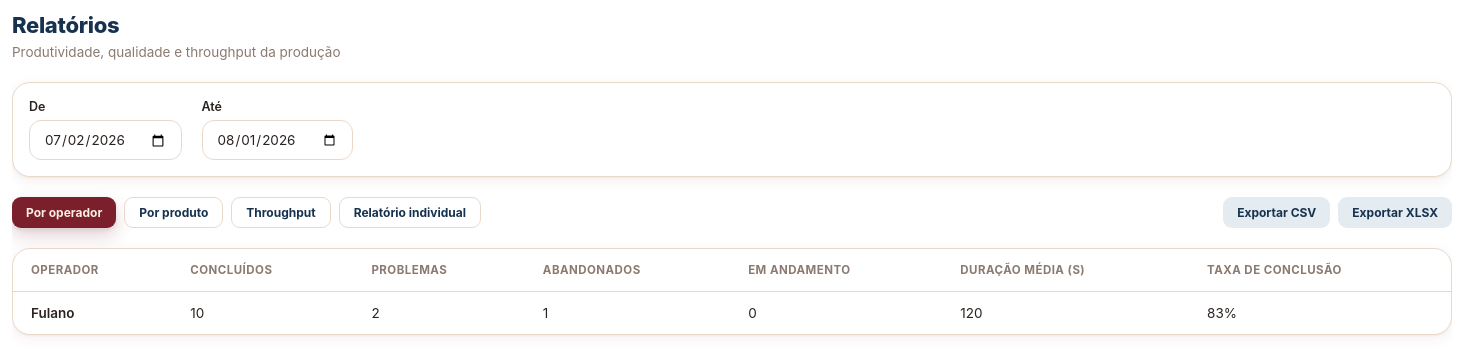
Test: ReportsScreen › troca pra aba por produto e carrega os dados certos
expect the text "Fulano" is shown: met, box top-left (13, 292), bottom-right (172, 334)
Click the button with test id "tab-by-product".
click(174, 213)  # box top-left (124, 197), bottom-right (223, 228)
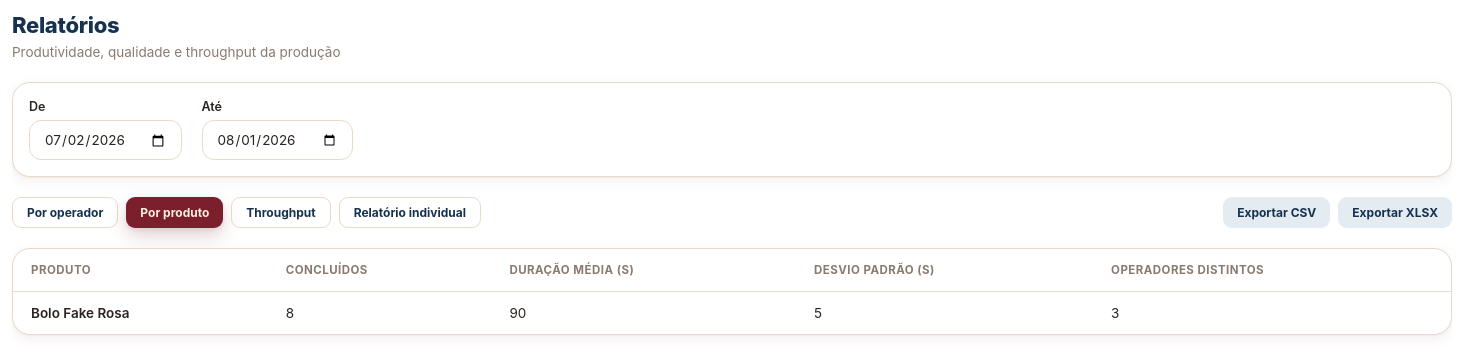
expect the text "Bolo Fake Rosa" is shown: met, box top-left (13, 292), bottom-right (268, 334)
